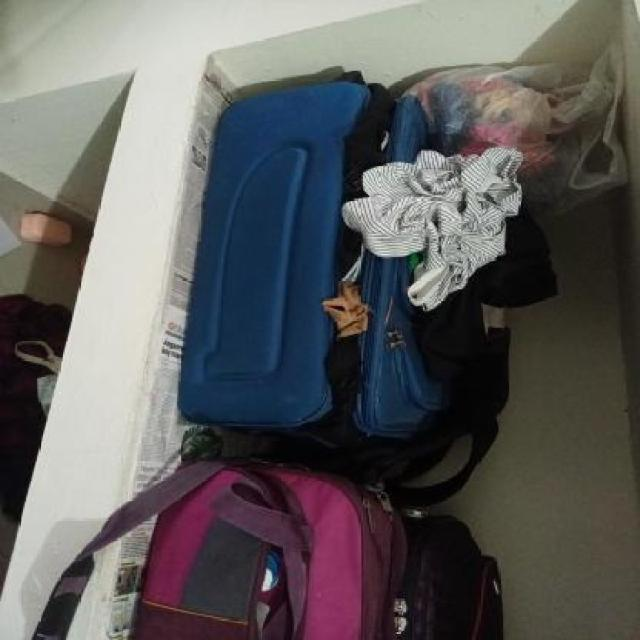backpack: (121, 449, 414, 640)
